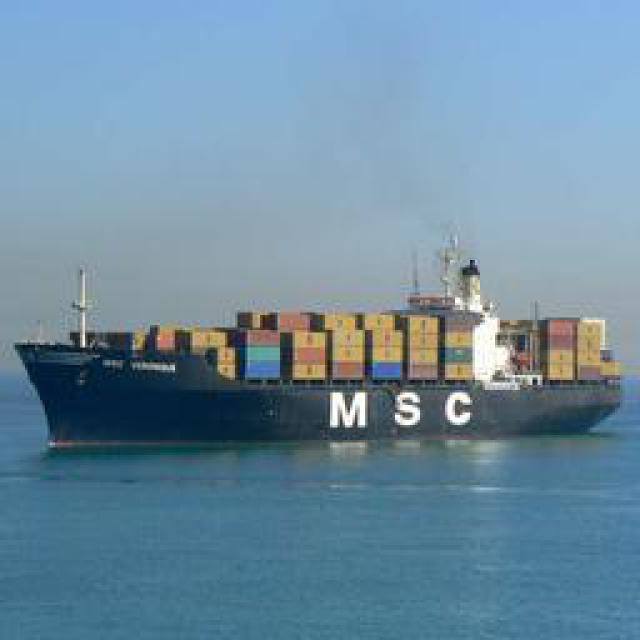Ship: (23, 233, 631, 441)
